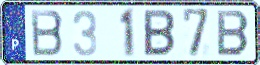1: (119, 6, 138, 61)
3: (71, 9, 98, 57)
7: (181, 7, 211, 60)
B: (29, 8, 65, 58), (142, 8, 177, 59), (216, 9, 251, 58)
